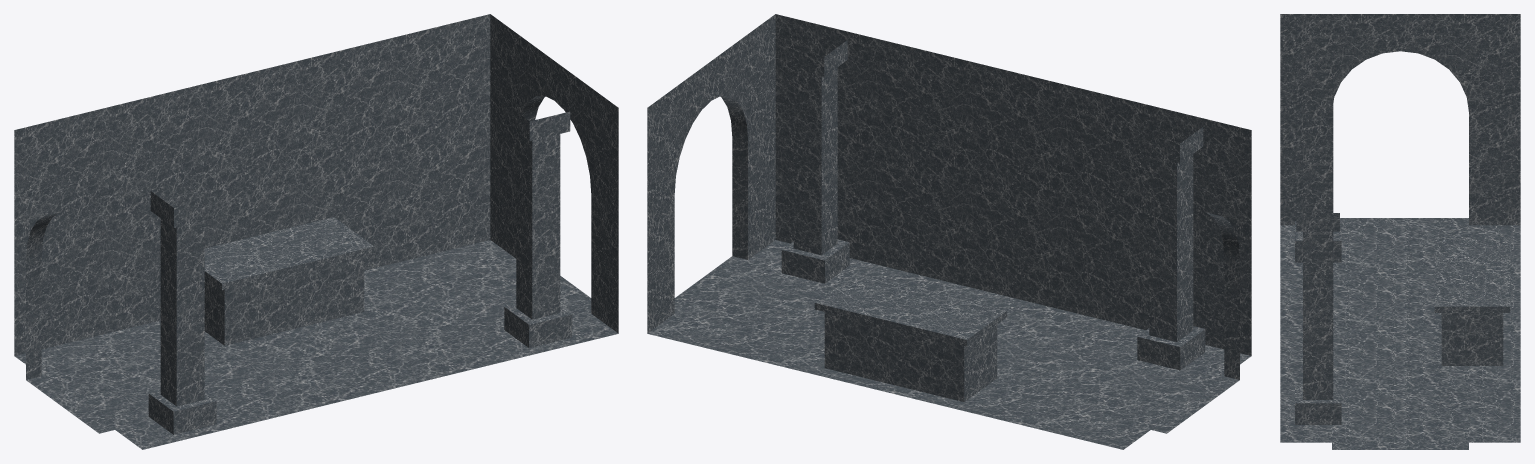
The model's file is saints-crypt.45f13d55.gltf.
The picture shows the model from 3 angles, left to right: view 1: azimuth 30°, elevation 25°; view 2: azimuth 150°, elevation 25°; view 3: azimuth 270°, elevation 25°; orthographic projection. The views are drawn at different scales.
Parts seen in each view (by area): view 1: saints-crypt-mesh; view 2: saints-crypt-mesh; view 3: saints-crypt-mesh.
Boxes of the visible parts, bbox=[...] form: saints-crypt-mesh: bbox=[14, 14, 618, 449]; saints-crypt-mesh: bbox=[647, 14, 1251, 449]; saints-crypt-mesh: bbox=[1280, 14, 1520, 449].
Bounding box in the file's own units: 8 × 3.4 × 3.5.
1 material, 1 textured.
